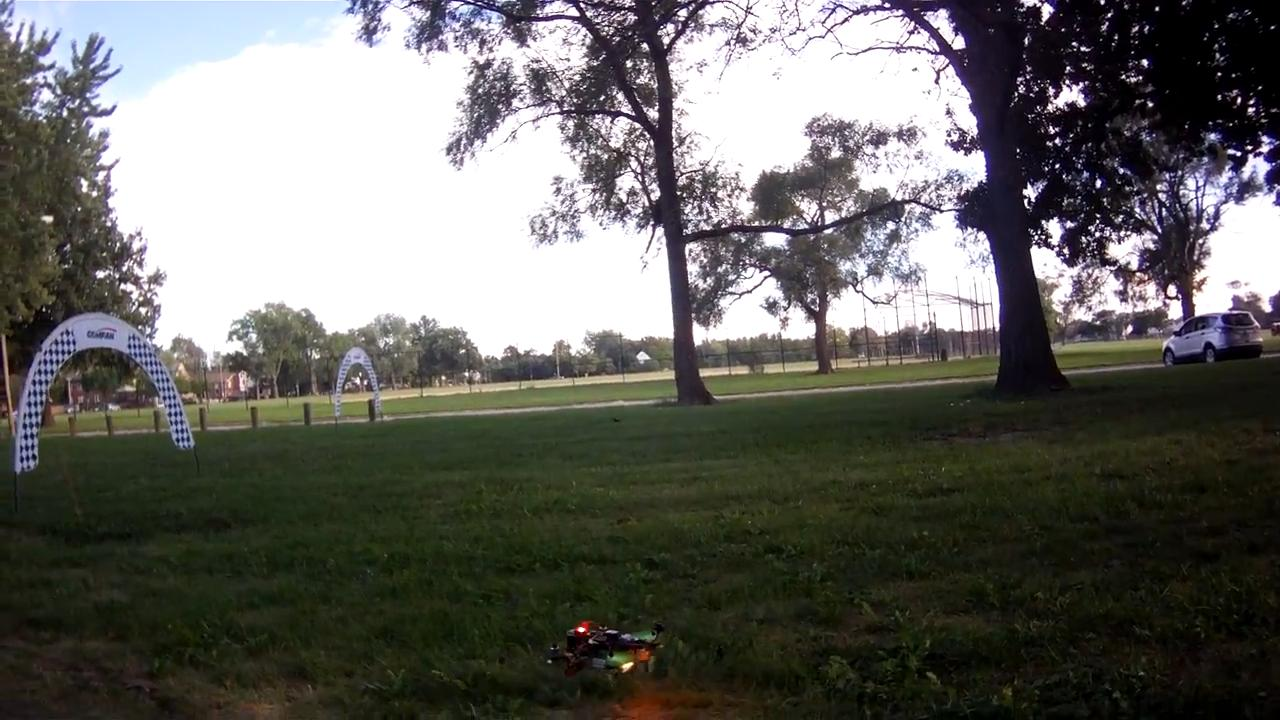gate: (15, 308, 195, 482), (328, 343, 384, 415)
